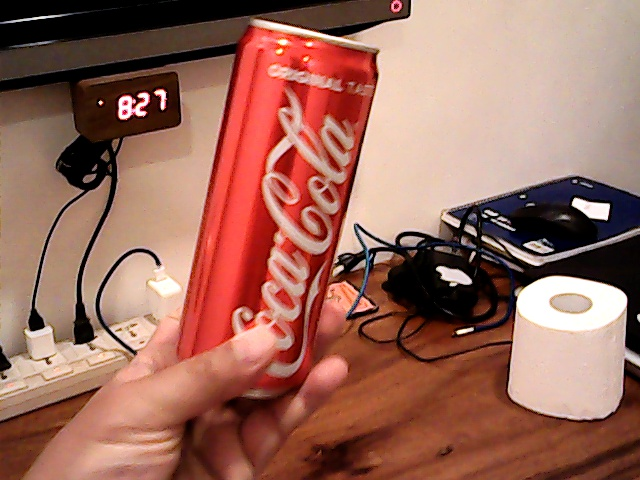Cola: (163, 7, 391, 375)
